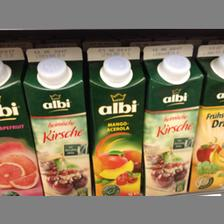Saft: (20, 46, 92, 194), (140, 44, 202, 196), (86, 46, 146, 194)
